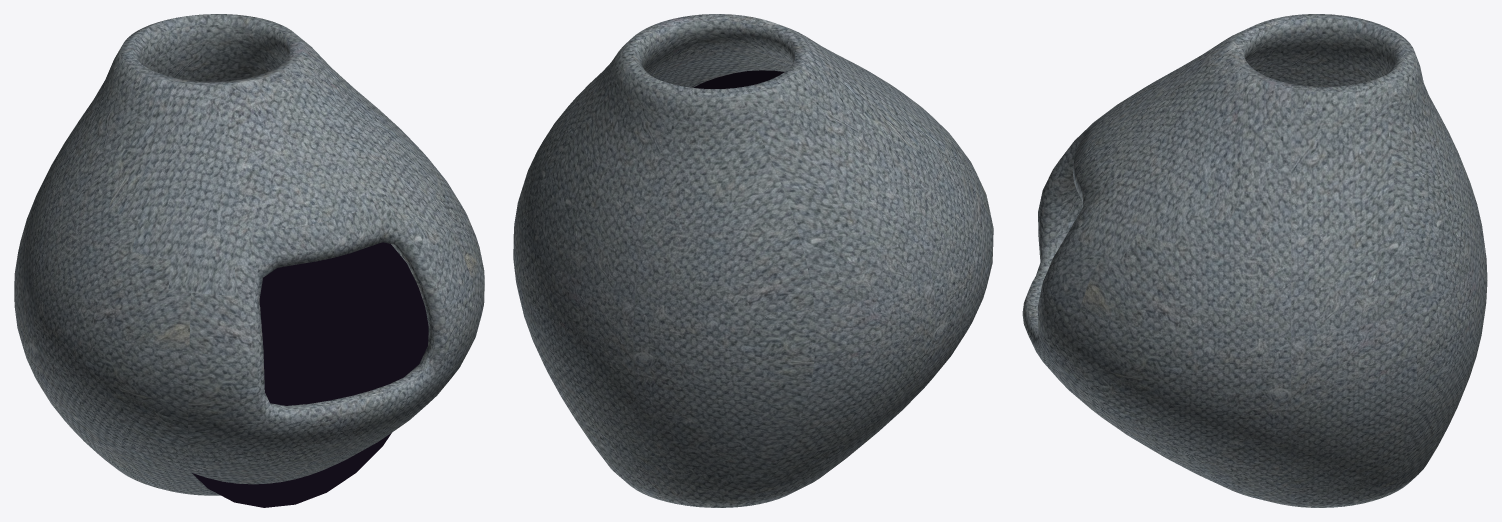
The model's file is cowl.glb.
3 views of the same model, side by side, from view 1: azimuth 30°, elevation 25°; view 2: azimuth 150°, elevation 25°; view 3: azimuth 270°, elevation 25° (orthographic). The views are drawn at different scales.
Visible parts, largest first — view 1: HoodShell, HoodVoidDisc; view 2: HoodShell, HoodVoidDisc; view 3: HoodShell.
Boxes of the visible parts, left/top/right/bottom form: HoodShell: left=14, top=14, right=484, bottom=495; HoodVoidDisc: left=192, top=242, right=428, bottom=507; HoodShell: left=513, top=14, right=993, bottom=507; HoodVoidDisc: left=693, top=70, right=784, bottom=88; HoodShell: left=1022, top=14, right=1487, bottom=507.
Bounding box in the file's own units: 0.417 × 0.4005 × 0.4038.
2 materials, 1 textured.
